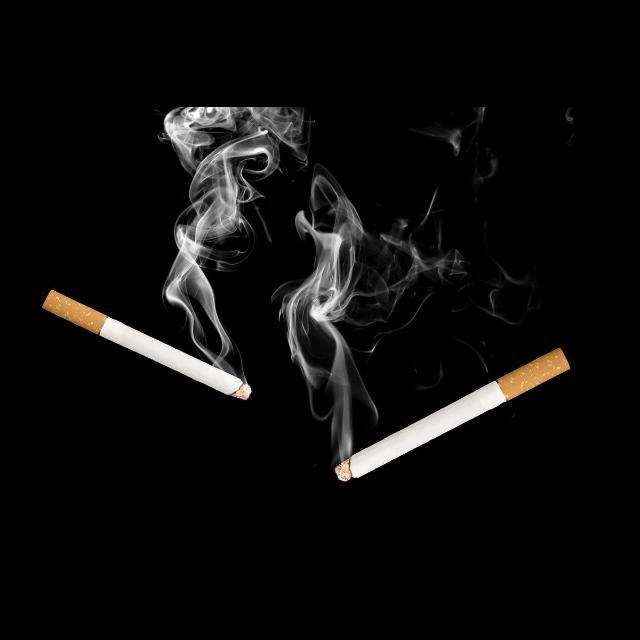rokok: (321, 339, 573, 475), (42, 282, 260, 406)
